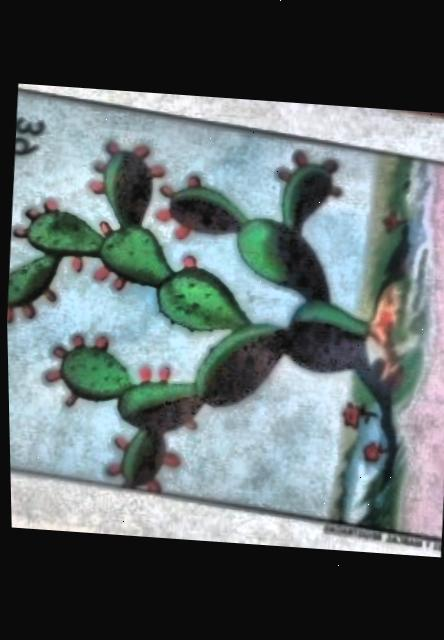El Nopal: (5, 93, 444, 546)
